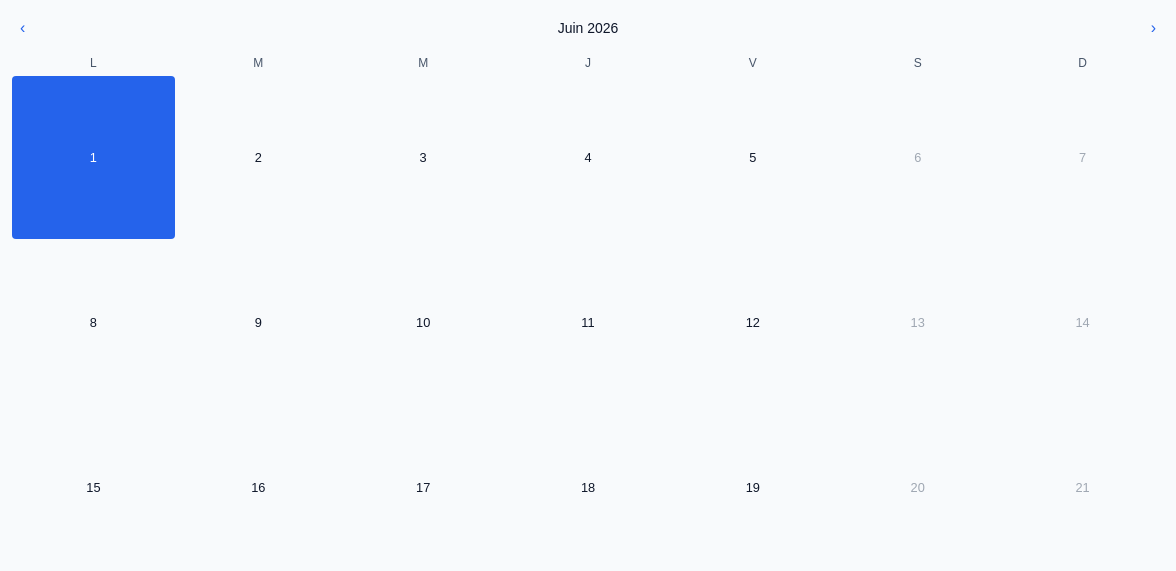
McMiniCalendrierComponent › navigation — clic › clic mois suivant affiche le mois suivant
Même bug : jourSelectionne (juin) force le retour à juin après navigation vers juillet.
Click the button with id "btnMoisSuivant": x=1153, y=28 [1143, 12, 1164, 44]
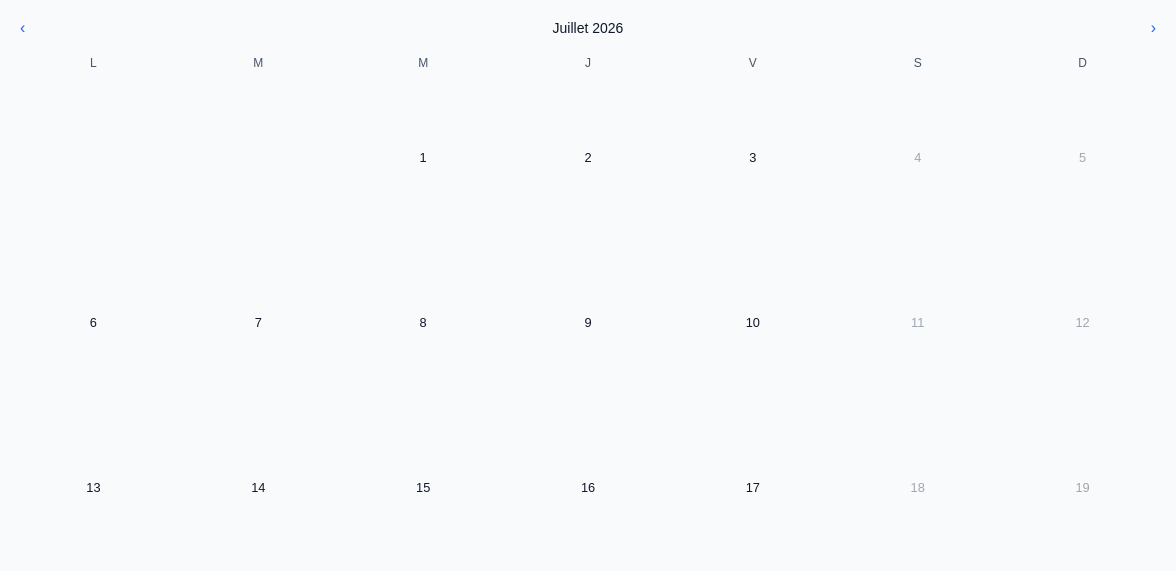
Check: the text with class "mc-mini-calendrier__libelle-mois" reads "juillet 2026", box [553, 20, 623, 36]
